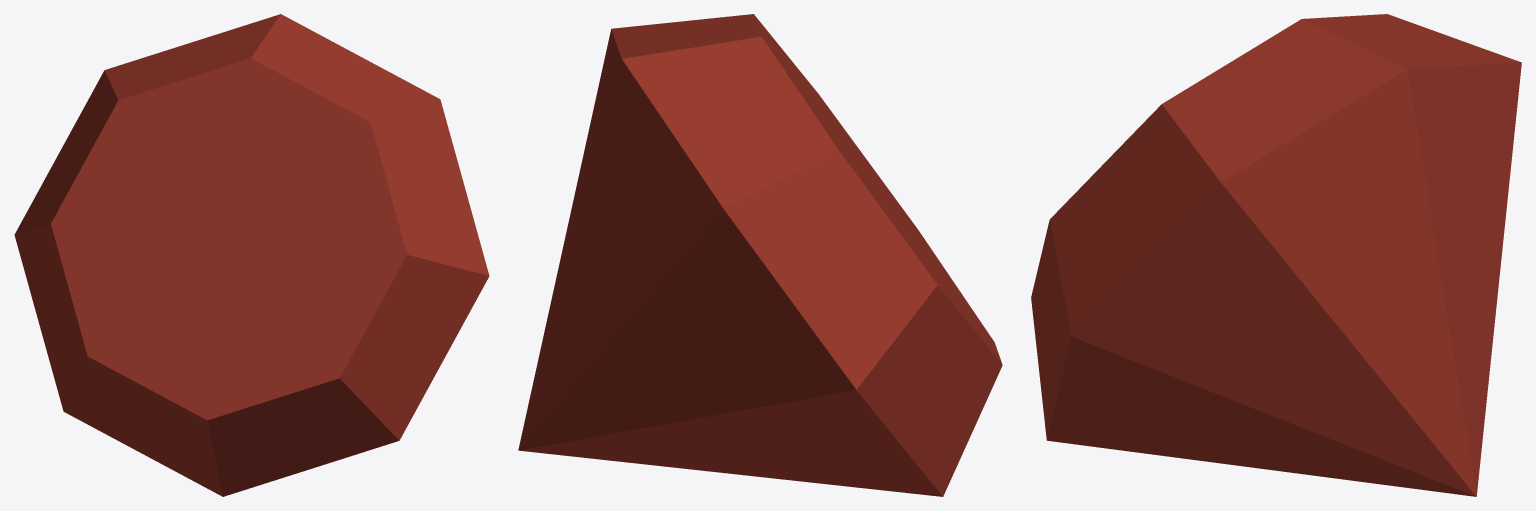
The model's file is SM_Item_Gem_02.glb.
3 renders of one model, left to right at view 1: azimuth 30°, elevation 25°; view 2: azimuth 150°, elevation 25°; view 3: azimuth 270°, elevation 25°, orthographic. The views are drawn at different scales.
Parts seen in each view (by area): view 1: SM_Item_Gem_02; view 2: SM_Item_Gem_02; view 3: SM_Item_Gem_02.
Part boxes in pixels (x1=…): SM_Item_Gem_02: x1=14, y1=14, x2=489, y2=496; SM_Item_Gem_02: x1=518, y1=14, x2=1002, y2=496; SM_Item_Gem_02: x1=1031, y1=14, x2=1521, y2=496.
Bounding box in the file's own units: 0.001 × 0.00107 × 0.00102.
1 material, 1 textured.
